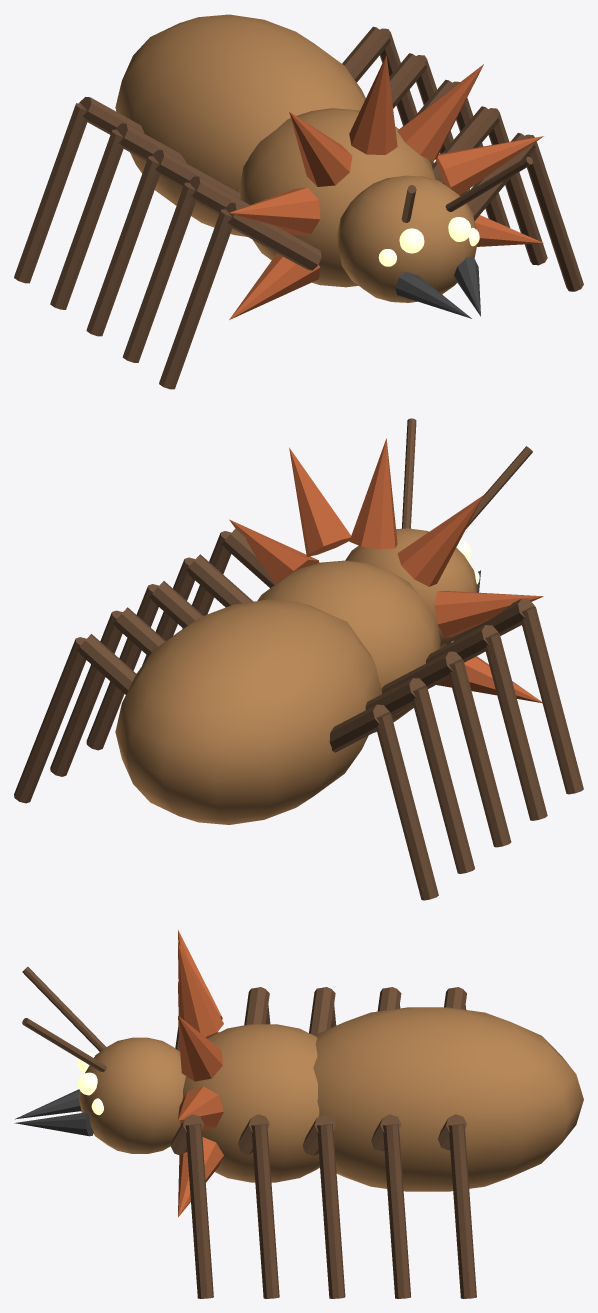
Rendered from CucaronLeon.fbx.
The picture shows the model from 3 angles, top to bottom: view 1: azimuth 30°, elevation 25°; view 2: azimuth 150°, elevation 25°; view 3: azimuth 270°, elevation 25°; orthographic projection. The views are drawn at different scales.
Visible parts, largest first — view 1: Cuerpo, Patas, Melena, Mandibulas, Ojos; view 2: Cuerpo, Patas, Melena; view 3: Cuerpo, Patas, Melena, Mandibulas, Ojos.
Boxes of the visible parts, left/top/right/bottom form: Cuerpo: left=115, top=14, right=477, bottom=302; Patas: left=14, top=26, right=583, bottom=389; Melena: left=229, top=55, right=543, bottom=319; Mandibulas: left=395, top=257, right=480, bottom=318; Ojos: left=378, top=217, right=479, bottom=266; Cuerpo: left=115, top=528, right=477, bottom=824; Patas: left=14, top=418, right=583, bottom=900; Melena: left=229, top=438, right=543, bottom=703; Cuerpo: left=78, top=1007, right=583, bottom=1191; Patas: left=22, top=966, right=476, bottom=1298; Melena: left=178, top=930, right=223, bottom=1217; Mandibulas: left=14, top=1089, right=93, bottom=1136; Ojos: left=77, top=1051, right=103, bottom=1115.
Bounding box in the file's own units: 538 × 360 × 693.
